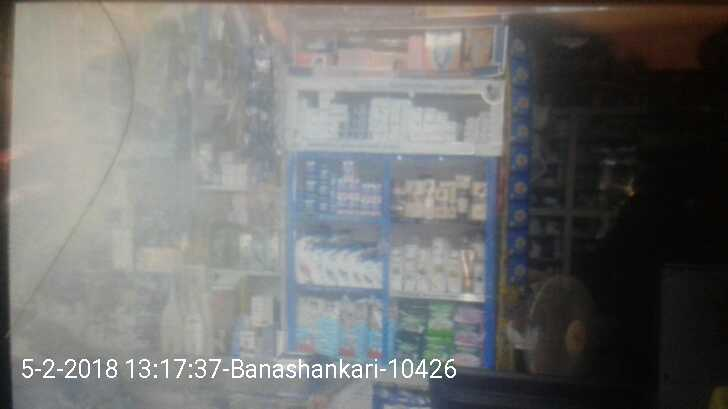pharmacy: (292, 294, 337, 360), (337, 294, 369, 360), (391, 302, 426, 334), (455, 307, 482, 345), (425, 302, 456, 332), (424, 333, 457, 360), (453, 341, 482, 366)
